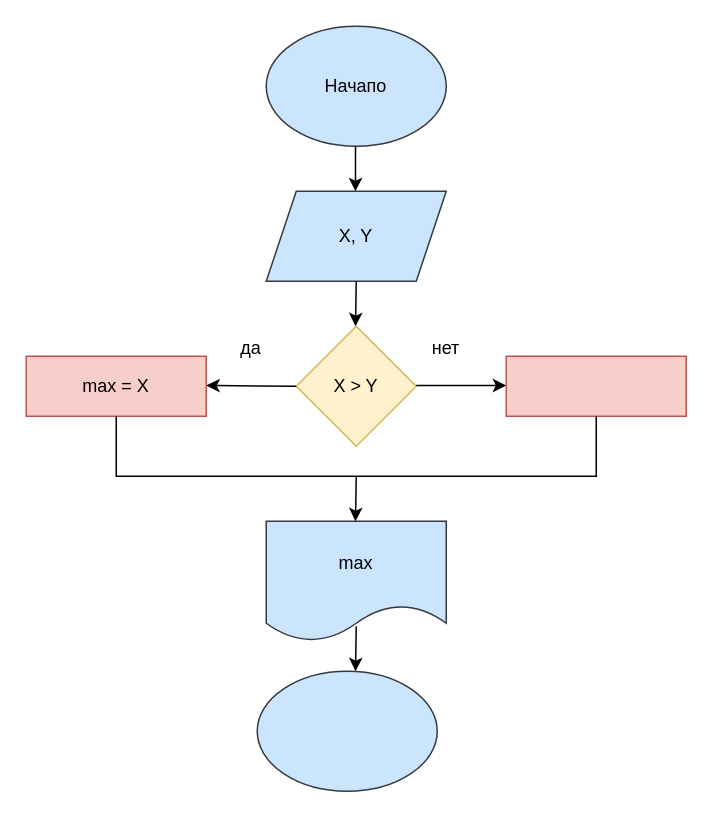
This 713x818 diagram has some shape labels left out. Here are the shapes that lost their labels. From the top down, the centre of each, then its label:
At point 595,385: "max = Y".
At point 346,730: "Kонец".
